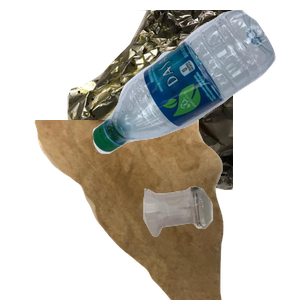glass: (141, 184, 300, 300)
metal: (60, 10, 300, 190)
plastic: (90, 10, 300, 156)
trash: (32, 120, 248, 300)
